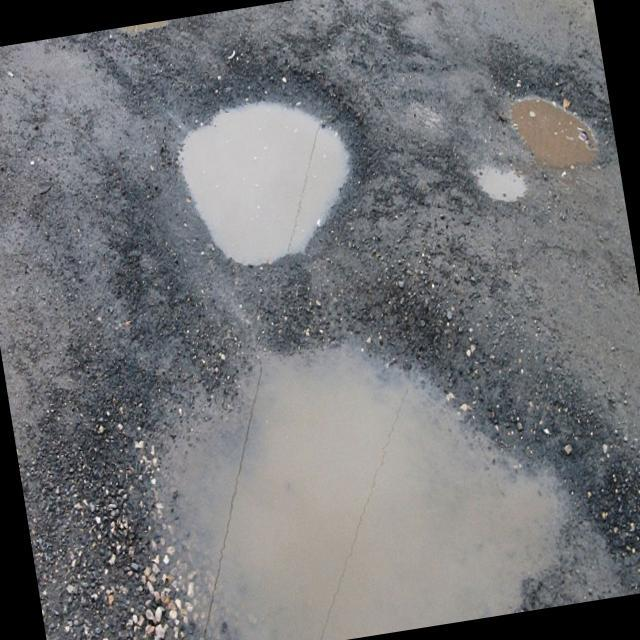Pothole: (49, 242, 640, 640), (141, 51, 441, 274), (490, 39, 630, 252), (463, 146, 547, 222)
